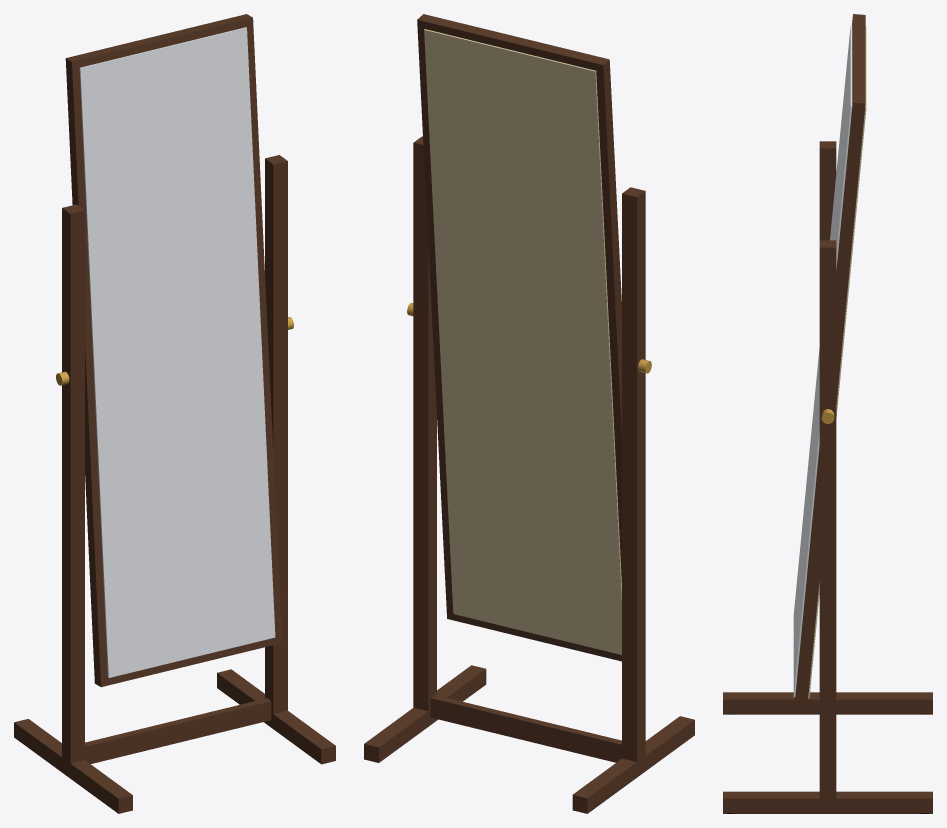
The model's file is 039_cheval_floor_mirror.glb.
3 renders of one model, left to right at view 1: azimuth 30°, elevation 25°; view 2: azimuth 150°, elevation 25°; view 3: azimuth 270°, elevation 25°, orthographic. The views are drawn at different scales.
Visible parts, largest first — view 1: 012_mirror_glass, 011_mirror_frame, 001_stand_upright, 006_stand_upright, 010_foot_stretcher, 000_stand_foot, 005_stand_foot; view 2: 013_mirror_backing, 011_mirror_frame, 001_stand_upright, 006_stand_upright, 010_foot_stretcher, 000_stand_foot, 005_stand_foot; view 3: 006_stand_upright, 011_mirror_frame, 012_mirror_glass, 005_stand_foot, 000_stand_foot, 001_stand_upright, 013_mirror_backing.
Boxes of the visible parts, left/top/right/bottom form: 012_mirror_glass: left=79, top=27, right=275, bottom=677; 011_mirror_frame: left=65, top=14, right=282, bottom=687; 001_stand_upright: left=62, top=204, right=84, bottom=763; 006_stand_upright: left=265, top=155, right=287, bottom=713; 010_foot_stretcher: left=85, top=698, right=271, bottom=763; 000_stand_foot: left=14, top=719, right=132, bottom=813; 005_stand_foot: left=217, top=669, right=335, bottom=764; 013_mirror_backing: left=424, top=29, right=621, bottom=654; 011_mirror_frame: left=417, top=14, right=621, bottom=661; 001_stand_upright: left=622, top=187, right=645, bottom=761; 006_stand_upright: left=413, top=136, right=436, bottom=711; 010_foot_stretcher: left=430, top=695, right=621, bottom=762; 000_stand_foot: left=572, top=716, right=694, bottom=813; 005_stand_foot: left=364, top=665, right=486, bottom=762; 006_stand_upright: left=819, top=240, right=836, bottom=798; 011_mirror_frame: left=794, top=14, right=865, bottom=709; 012_mirror_glass: left=793, top=25, right=852, bottom=697; 005_stand_foot: left=723, top=791, right=932, bottom=813; 000_stand_foot: left=723, top=692, right=932, bottom=714; 001_stand_upright: left=819, top=141, right=836, bottom=240; 013_mirror_backing: left=808, top=26, right=866, bottom=698.
Size of the model in its own units: 0.64 by 1.85 by 0.5.
